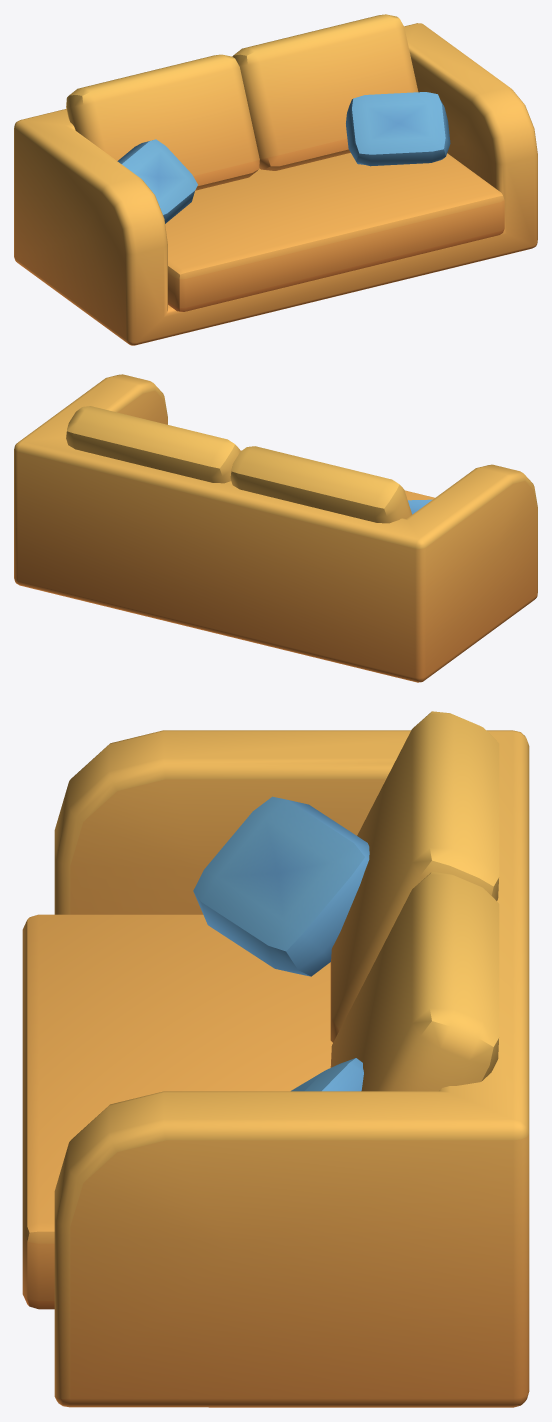
File: couch_pillows.glb
The picture shows the model from 3 angles, top to bottom: view 1: azimuth 30°, elevation 25°; view 2: azimuth 150°, elevation 25°; view 3: azimuth 270°, elevation 25°; orthographic projection. The views are drawn at different scales.
Parts seen in each view (by area): view 1: couch_pillows; view 2: couch_pillows; view 3: couch_pillows.
Part boxes in pixels (x1,y1,x2,y2): couch_pillows: (14,14,537,345); couch_pillows: (14,374,537,682); couch_pillows: (22,711,529,1407).
Bounding box in the file's own units: 3 × 1.22 × 1.6.
Materials: 1 (1 with a texture image).
